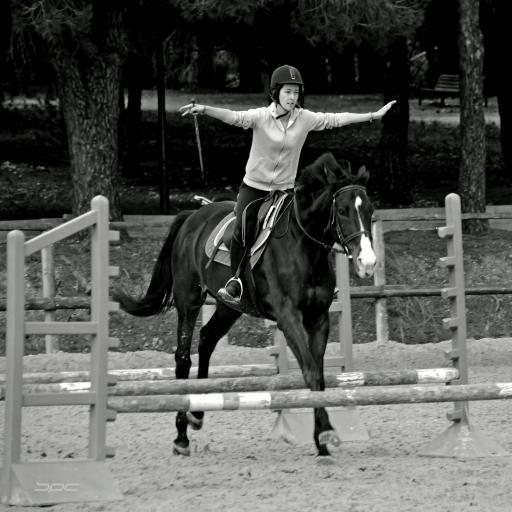Horse: (110, 162, 372, 458)
